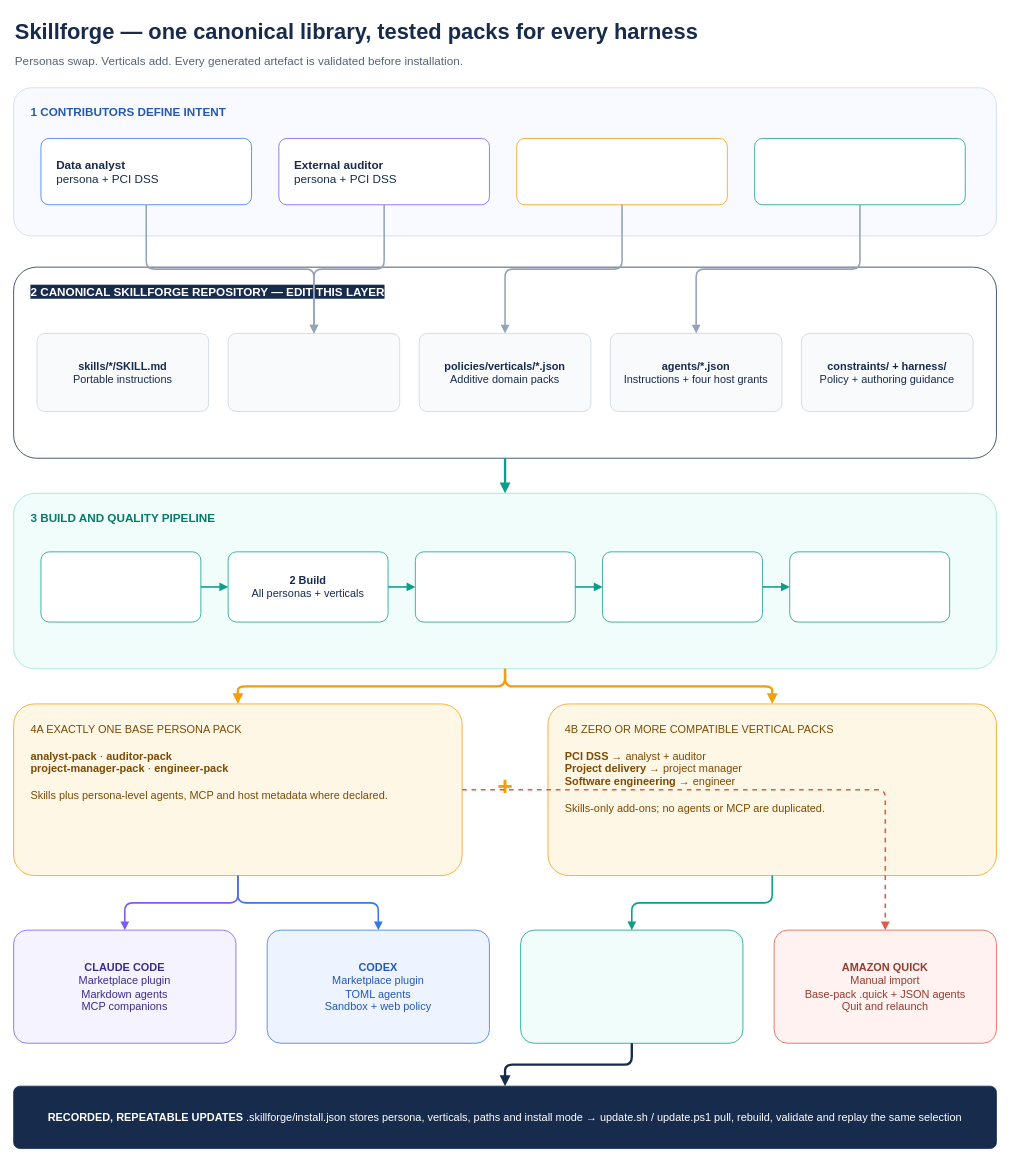
Some shapes in this 1010 by 1162 pixel diagram are drawn without their labels. Here are the shapes that lost their labels. From the top down, the centre of each, then its label:
At (621,171): "Project manager persona + project delivery".
At (859,171): "Software engineer persona + software engineering".
At (313,372): "policies/personas/*.json One swappable base persona".
At (120,586): "1 Sync Harness copies match".
At (495,586): "3 Validate Nine source + pack gates".
At (682,586): "4 Eval Claude, Codex, Kiro routes".
At (869,586): "5 Prove Mutations + tests on 3 OSes".
At (631,986): "KIRO Local reconciliation JSON agents + MCP Windows copies by default".
